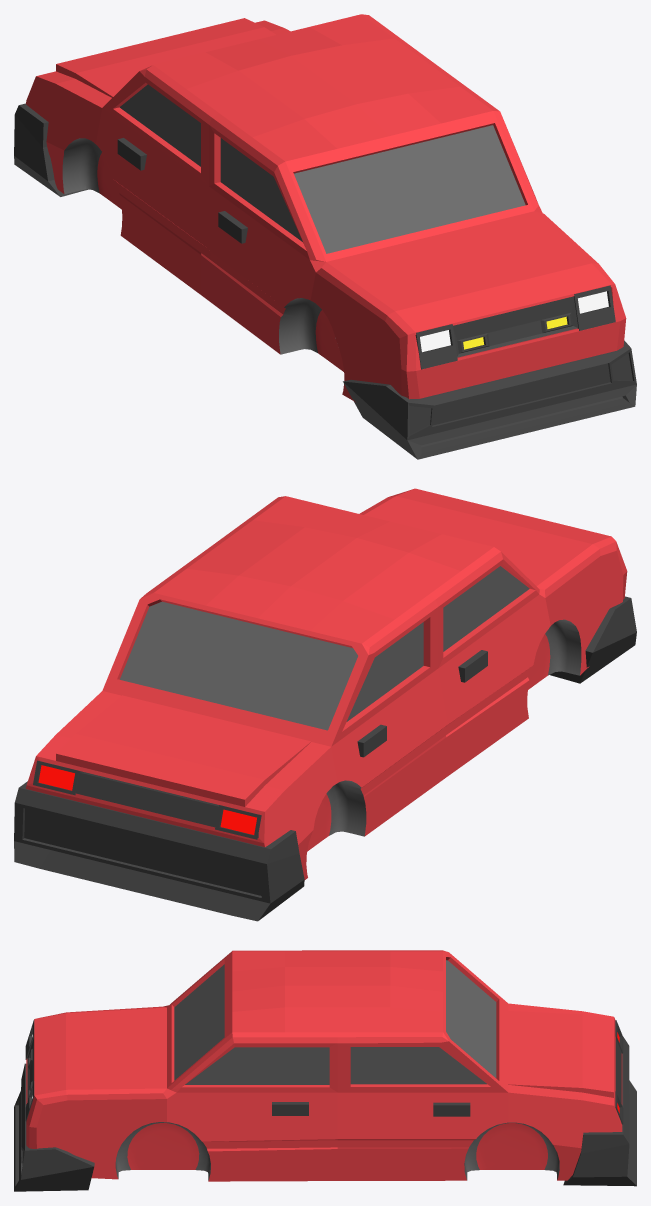
The model's file is CarModel3_body.glb.
3 renders of one model, top to bottom at view 1: azimuth 30°, elevation 25°; view 2: azimuth 150°, elevation 25°; view 3: azimuth 270°, elevation 25°, orthographic. The views are drawn at different scales.
Visible parts, largest first — view 1: CarModel3.001, Cubo.016, Cubo.015, Cubo.017, Object.008; view 2: CarModel3.001, Cubo.017, Cubo.018, Cubo.016, Object.008; view 3: CarModel3.001, Cubo.017, Cubo.016, Object.008, Cubo.018, Cubo.015.
Part boxes in pixels (<box>): CarModel3.001: <box>26,14,626,402</box>; Cubo.016: <box>343,340,636,459</box>; Cubo.015: <box>415,285,615,369</box>; Cubo.017: <box>14,103,87,196</box>; Object.008: <box>117,138,247,243</box>; CarModel3.001: <box>26,488,627,879</box>; Cubo.017: <box>14,781,304,921</box>; Cubo.018: <box>33,760,261,839</box>; Cubo.016: <box>550,596,636,683</box>; Object.008: <box>357,650,487,757</box>; CarModel3.001: <box>26,950,622,1181</box>; Cubo.017: <box>563,1036,636,1186</box>; Cubo.016: <box>14,1063,94,1191</box>; Object.008: <box>272,1102,470,1116</box>; Cubo.018: <box>615,1020,623,1124</box>; Cubo.015: <box>25,1019,34,1121</box>.
Bounding box in the file's own units: 2.24 × 1.71 × 5.91.
